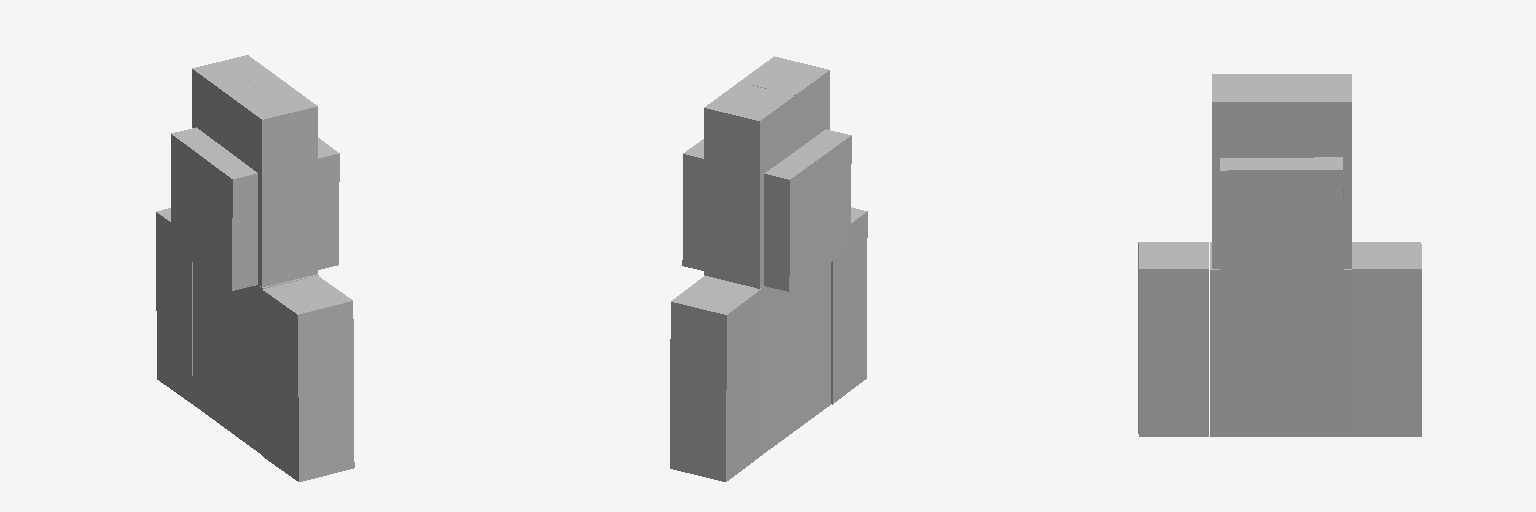
The model's file is Body.obj.
3 renders of one model, left to right at view 1: azimuth 30°, elevation 25°; view 2: azimuth 150°, elevation 25°; view 3: azimuth 270°, elevation 25°, orthographic.
Parts seen in each view (by area): view 1: Mesh initialShadingGroup polySurface5 polySurface1 polySurface11, Mesh initialShadingGroup polySurface7 polySurface1 polySurface13, Mesh initialShadingGroup polySurface4 polySurface1 polySurface10, Mesh initialShadingGroup polySurface6 polySurface1 polySurface12, Mesh initialShadingGroup polySurface2 polySurface8 polySurface1, Mesh initialShadingGroup polySurface3 polySurface1 polySurface9; view 2: Mesh initialShadingGroup polySurface2 polySurface8 polySurface1, Mesh initialShadingGroup polySurface7 polySurface1 polySurface13, Mesh initialShadingGroup polySurface3 polySurface1 polySurface9, Mesh initialShadingGroup polySurface6 polySurface1 polySurface12, Mesh initialShadingGroup polySurface5 polySurface1 polySurface11, Mesh initialShadingGroup polySurface4 polySurface1 polySurface10; view 3: Mesh initialShadingGroup polySurface6 polySurface1 polySurface12, Mesh initialShadingGroup polySurface7 polySurface1 polySurface13, Mesh initialShadingGroup polySurface5 polySurface1 polySurface11, Mesh initialShadingGroup polySurface2 polySurface8 polySurface1, Mesh initialShadingGroup polySurface3 polySurface1 polySurface9, Mesh initialShadingGroup polySurface4 polySurface1 polySurface10.
Boxes of the visible parts, x1=… form: Mesh initialShadingGroup polySurface5 polySurface1 polySurface11: x1=262, y1=275, x2=354, y2=481; Mesh initialShadingGroup polySurface7 polySurface1 polySurface13: x1=170, y1=127, x2=339, y2=290; Mesh initialShadingGroup polySurface4 polySurface1 polySurface10: x1=227, y1=81, x2=317, y2=286; Mesh initialShadingGroup polySurface6 polySurface1 polySurface12: x1=193, y1=262, x2=318, y2=455; Mesh initialShadingGroup polySurface2 polySurface8 polySurface1: x1=156, y1=208, x2=192, y2=403; Mesh initialShadingGroup polySurface3 polySurface1 polySurface9: x1=192, y1=55, x2=282, y2=149; Mesh initialShadingGroup polySurface2 polySurface8 polySurface1: x1=670, y1=276, x2=760, y2=481; Mesh initialShadingGroup polySurface7 polySurface1 polySurface13: x1=682, y1=129, x2=851, y2=291; Mesh initialShadingGroup polySurface3 polySurface1 polySurface9: x1=704, y1=82, x2=794, y2=288; Mesh initialShadingGroup polySurface6 polySurface1 polySurface12: x1=704, y1=263, x2=830, y2=455; Mesh initialShadingGroup polySurface5 polySurface1 polySurface11: x1=831, y1=207, x2=867, y2=404; Mesh initialShadingGroup polySurface4 polySurface1 polySurface10: x1=740, y1=56, x2=829, y2=150; Mesh initialShadingGroup polySurface6 polySurface1 polySurface12: x1=1210, y1=242, x2=1351, y2=436; Mesh initialShadingGroup polySurface7 polySurface1 polySurface13: x1=1220, y1=157, x2=1343, y2=281; Mesh initialShadingGroup polySurface5 polySurface1 polySurface11: x1=1138, y1=242, x2=1208, y2=436; Mesh initialShadingGroup polySurface2 polySurface8 polySurface1: x1=1352, y1=242, x2=1421, y2=436; Mesh initialShadingGroup polySurface3 polySurface1 polySurface9: x1=1282, y1=74, x2=1351, y2=268; Mesh initialShadingGroup polySurface4 polySurface1 polySurface10: x1=1212, y1=74, x2=1281, y2=268.
Size of the model in its own units: 2 by 6 by 4.6.